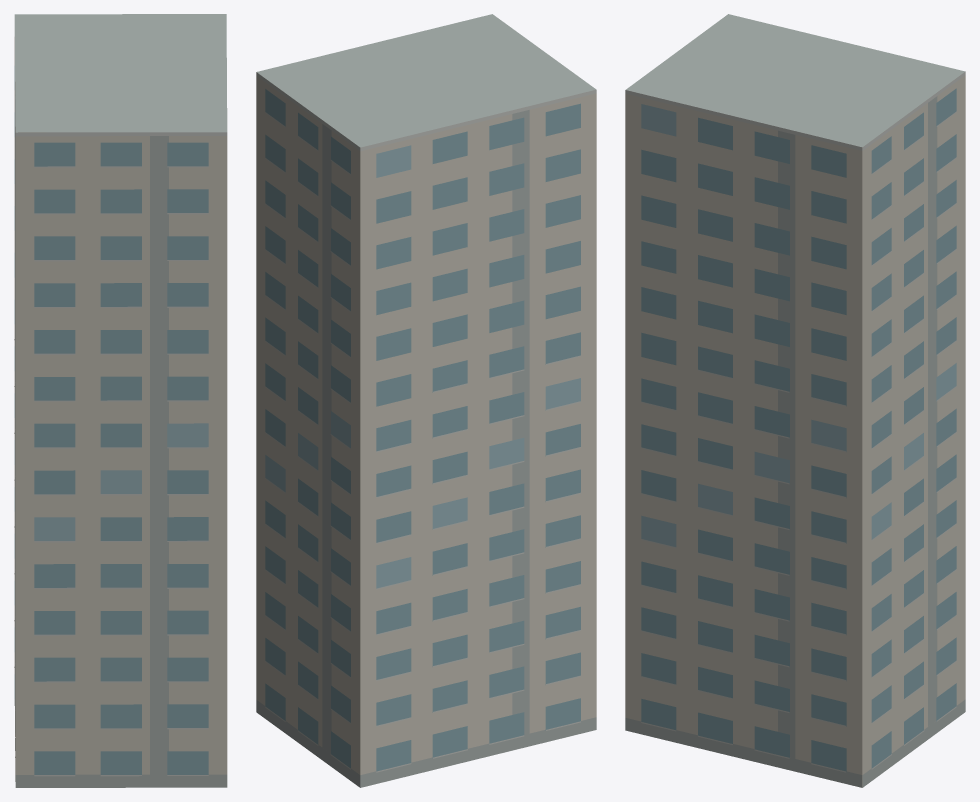
File: residential-ff2790e6-5a00-4e9f-b352-8ef8975dec30.glb
3 renders of one model, left to right at view 1: azimuth 30°, elevation 25°; view 2: azimuth 150°, elevation 25°; view 3: azimuth 270°, elevation 25°, orthographic. The views are drawn at different scales.
Visible parts, largest first — view 1: residential-ff2790e6-5a00-4e9f-b352-8ef8975dec30.tmp; view 2: residential-ff2790e6-5a00-4e9f-b352-8ef8975dec30.tmp; view 3: residential-ff2790e6-5a00-4e9f-b352-8ef8975dec30.tmp.
Part boxes in pixels (x1,y1,x2,y2): residential-ff2790e6-5a00-4e9f-b352-8ef8975dec30.tmp: (14,14,227,787); residential-ff2790e6-5a00-4e9f-b352-8ef8975dec30.tmp: (256,14,596,787); residential-ff2790e6-5a00-4e9f-b352-8ef8975dec30.tmp: (625,14,965,787).
Size of the model in its own units: 18.76 by 42 by 20.21.
